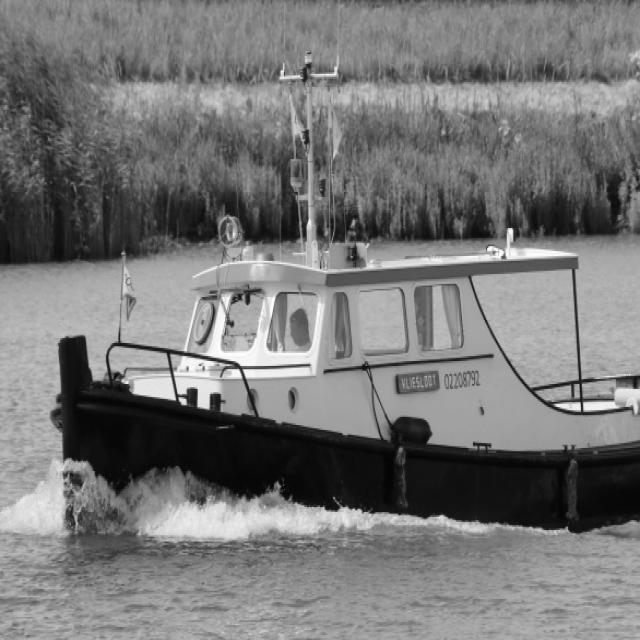tugboat: (49, 219, 640, 562)
